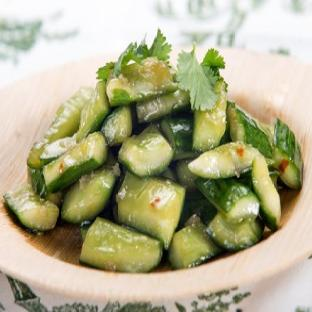Cucumber: (27, 88, 93, 168), (117, 172, 185, 249), (80, 218, 162, 272), (43, 133, 107, 191), (107, 58, 177, 106), (61, 166, 117, 223), (195, 178, 260, 223), (118, 126, 173, 176), (188, 142, 260, 178), (4, 185, 58, 232), (169, 221, 221, 269), (227, 103, 272, 157), (193, 82, 226, 152), (207, 212, 263, 251), (252, 156, 280, 231), (274, 120, 303, 189), (77, 80, 109, 141), (137, 90, 190, 123), (178, 190, 217, 228), (161, 116, 195, 159), (28, 168, 62, 207), (102, 106, 132, 145), (40, 135, 75, 165), (176, 160, 197, 190), (257, 121, 274, 145), (44, 191, 63, 207), (237, 172, 253, 189), (220, 122, 231, 144), (80, 222, 92, 242), (160, 168, 177, 182), (269, 171, 279, 189)
